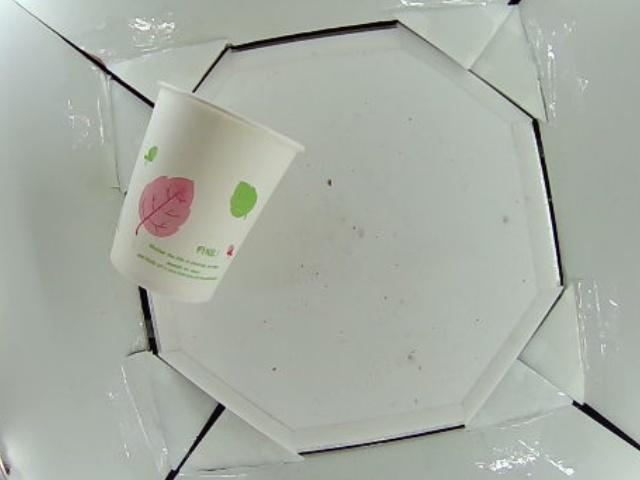Cup: (109, 75, 304, 306)
